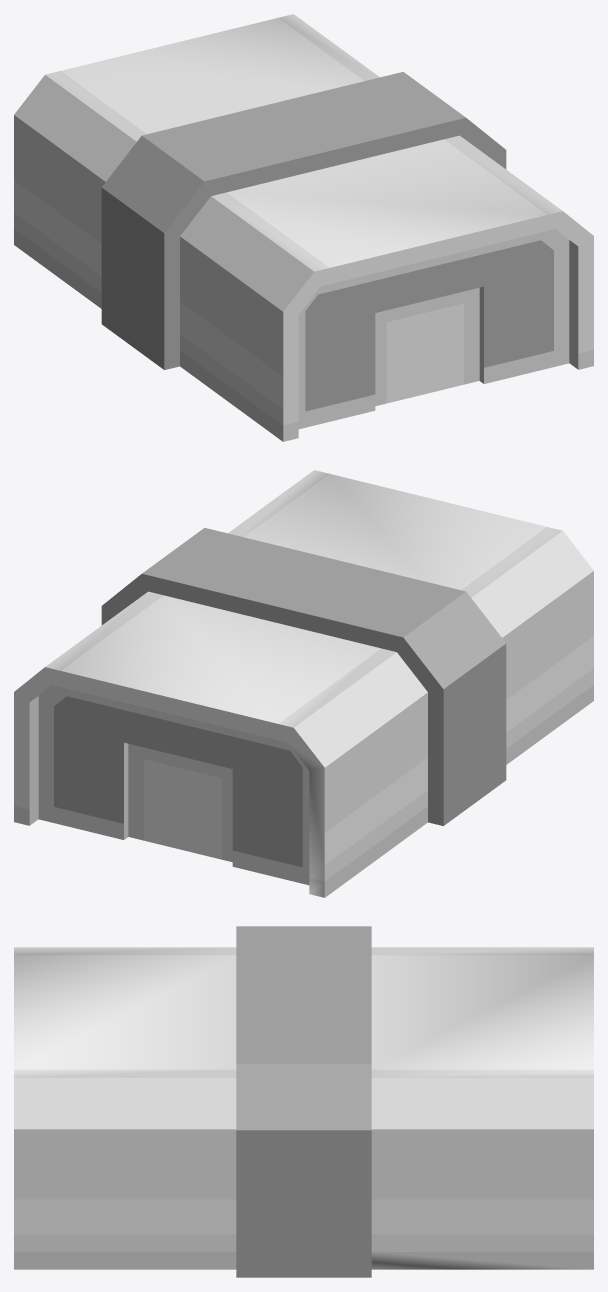
File: nmrf_airfield.glb
3 views of the same model, one above another, from view 1: azimuth 30°, elevation 25°; view 2: azimuth 150°, elevation 25°; view 3: azimuth 270°, elevation 25° (orthographic). The views are drawn at different scales.
Visible parts, largest first — view 1: Body; view 2: Body; view 3: Body.
Part boxes in pixels (x1,y1,x2,y2): Body: (14,14,593,441); Body: (14,470,593,897); Body: (14,926,593,1277).
Size of the model in its own units: 14.67 by 7.33 by 20.
Materials: 2 (1 with a texture image).
